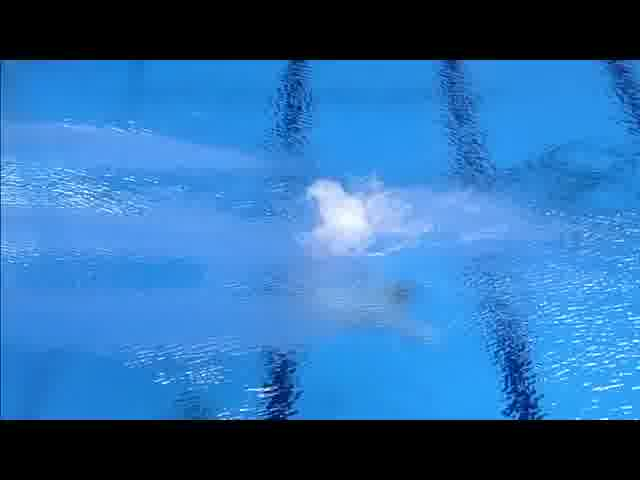core: (301, 178, 414, 256)
periphery: (297, 170, 508, 261)
